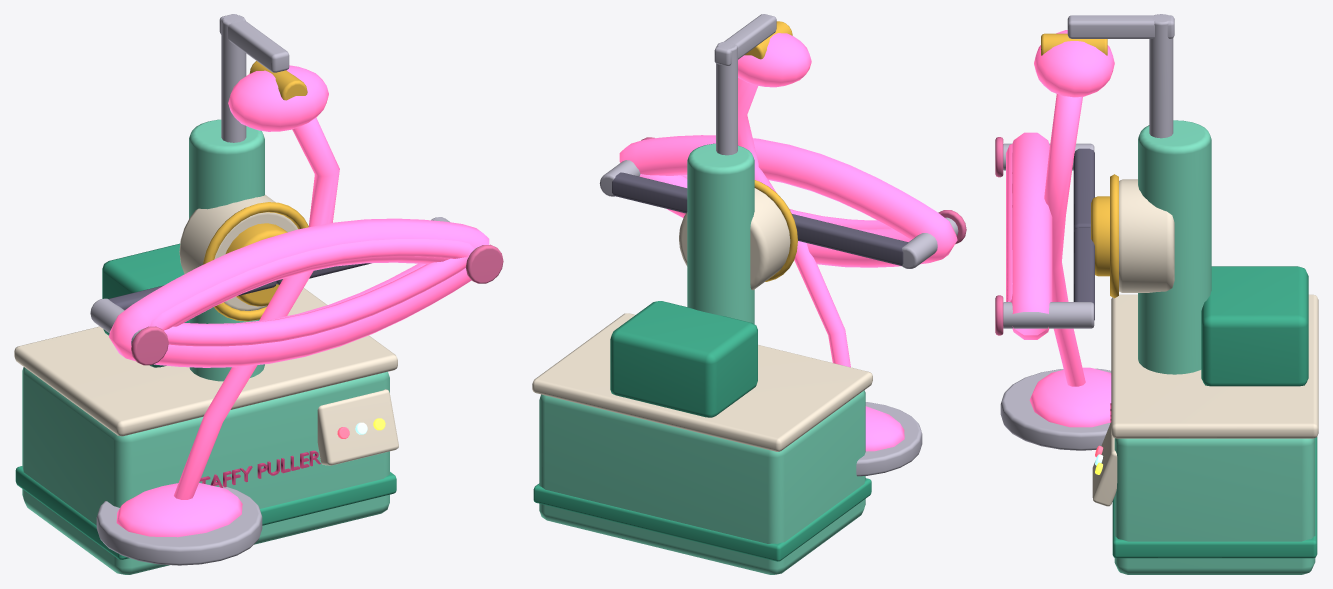
The model's file is candy_taffy_puller.glb.
3 views of the same model, side by side, from view 1: azimuth 30°, elevation 25°; view 2: azimuth 150°, elevation 25°; view 3: azimuth 270°, elevation 25° (orthographic). The views are drawn at different scales.
Parts seen in each view (by area): view 1: TaffyPuller, Arms; view 2: TaffyPuller, Arms; view 3: TaffyPuller, Arms.
Boxes of the visible parts, bbox=[...] form: TaffyPuller: bbox=[14, 14, 398, 574]; Arms: bbox=[90, 217, 503, 367]; TaffyPuller: bbox=[532, 14, 922, 574]; Arms: bbox=[599, 135, 966, 268]; TaffyPuller: bbox=[1000, 14, 1318, 574]; Arms: bbox=[995, 132, 1109, 339].
Bounding box in the file's own units: 6.26 × 8.2 × 4.83.
